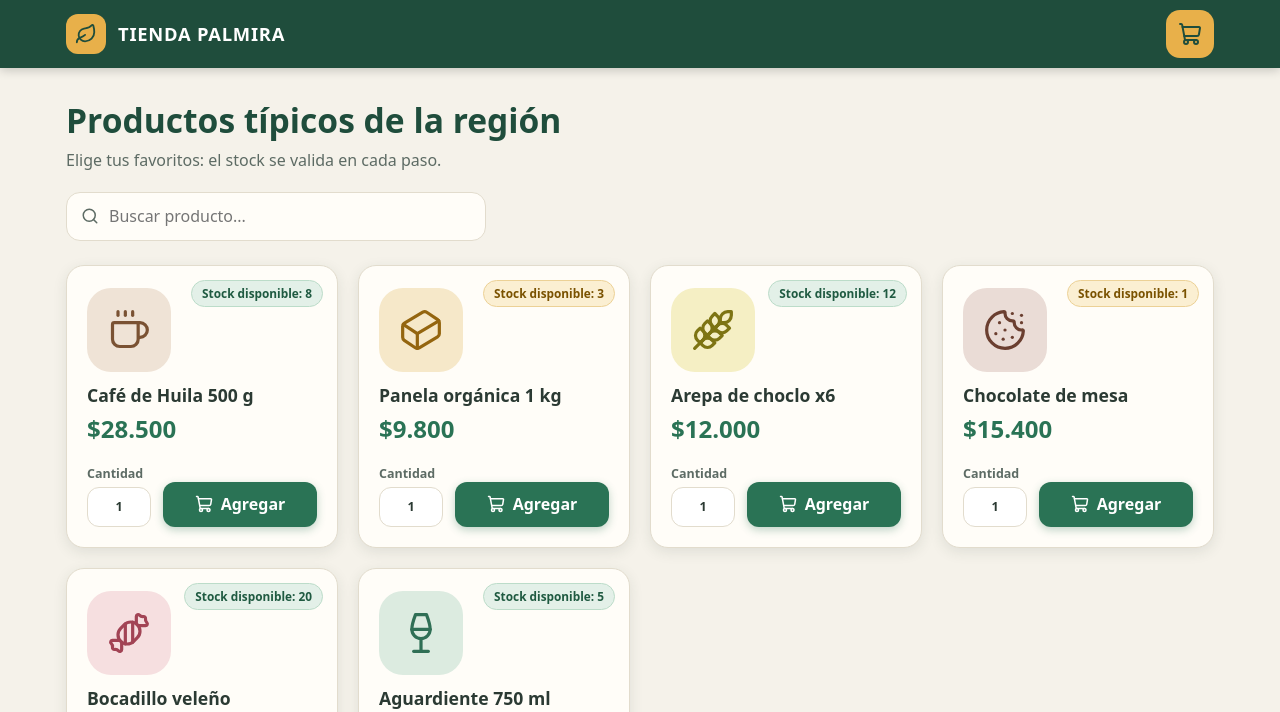
it: Reto carrito de compras - casos de prueba del instructor › 6. Panela (stock 3): 2 + 2 queda en 3 con toast
Replace the text in the field labelled "Cantidad" below "$9.800" with "2" at (411, 507), box 379,487 -> 443,527
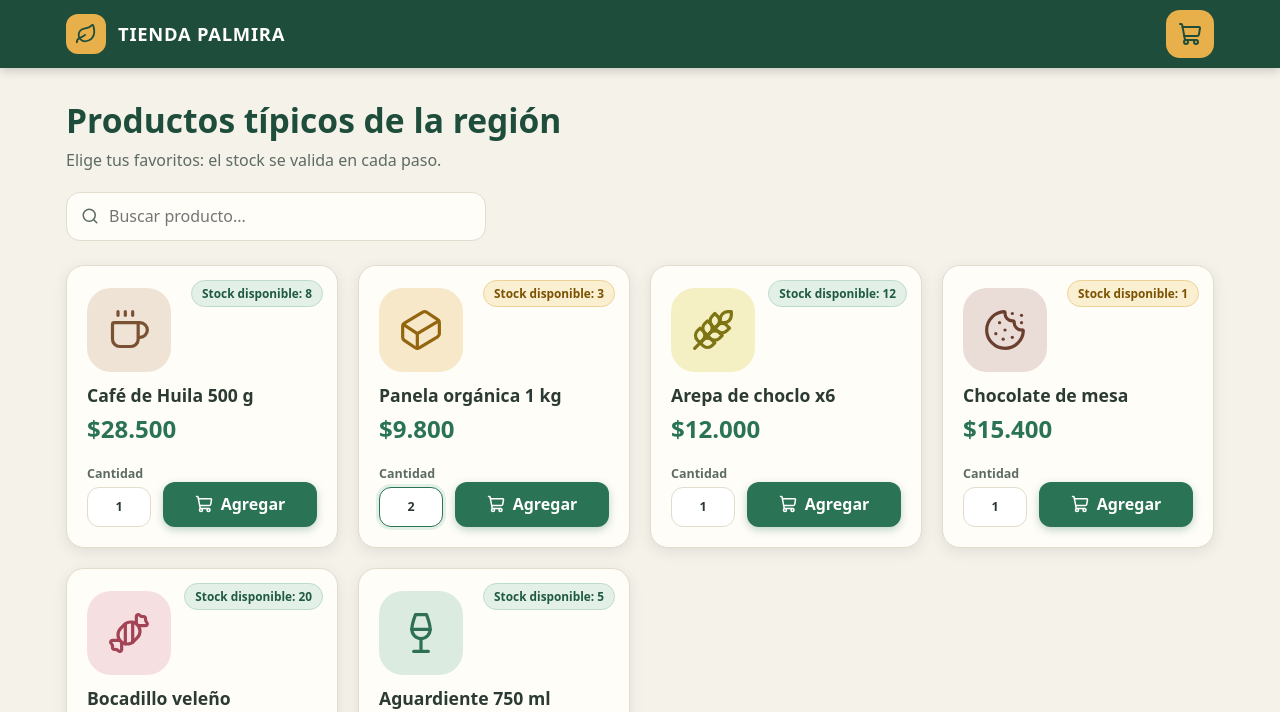
Click the button "Agregar" below "$9.800" at (532, 504), box 455,482 -> 609,527
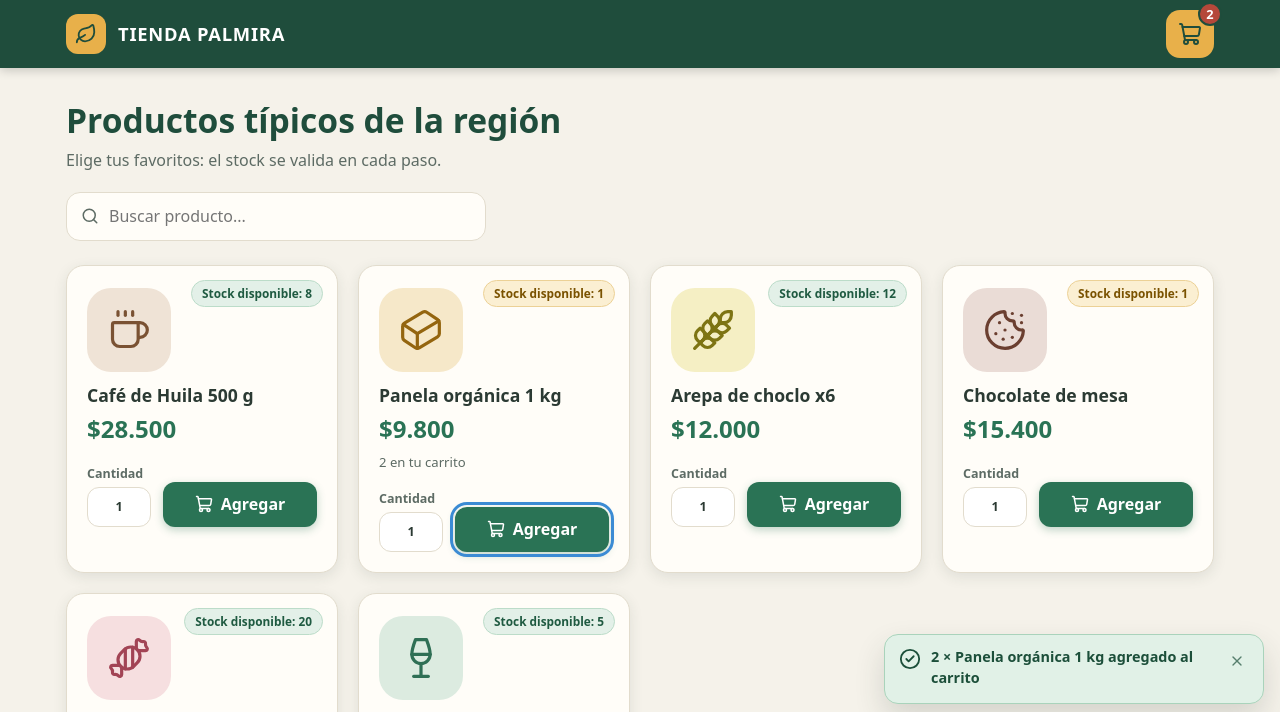
Replace the text in the field labelled "Cantidad" below "en tu carrito" with "2" at (411, 532), box 379,512 -> 443,552
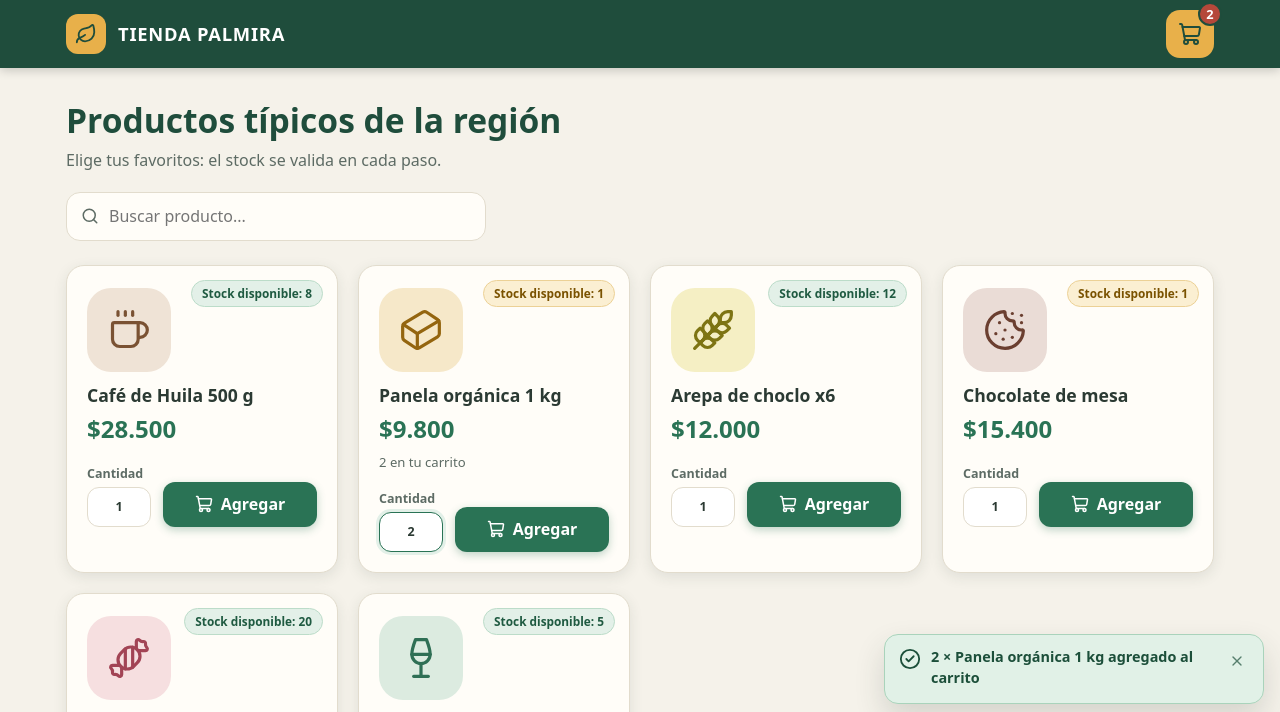
Click the button "Agregar" below "en tu carrito" at (532, 530), box 455,507 -> 609,552
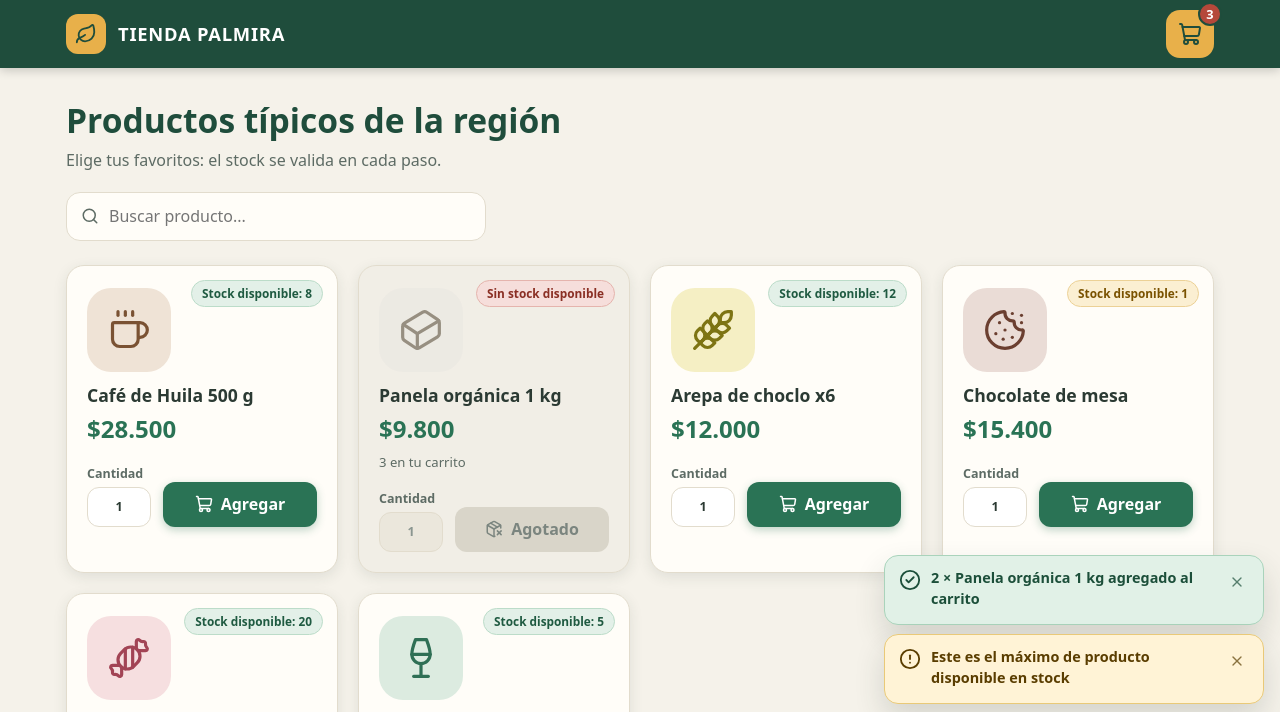
Check: the text "Este es el máximo de producto disponible en stock" is shown, box 931,647 -> 1150,687
Check: the text with test id "contador-carrito" reads "3", box 1206,5 -> 1214,23
Click the button named "abrir carrito" at (1190, 34), box 1166,10 -> 1214,58
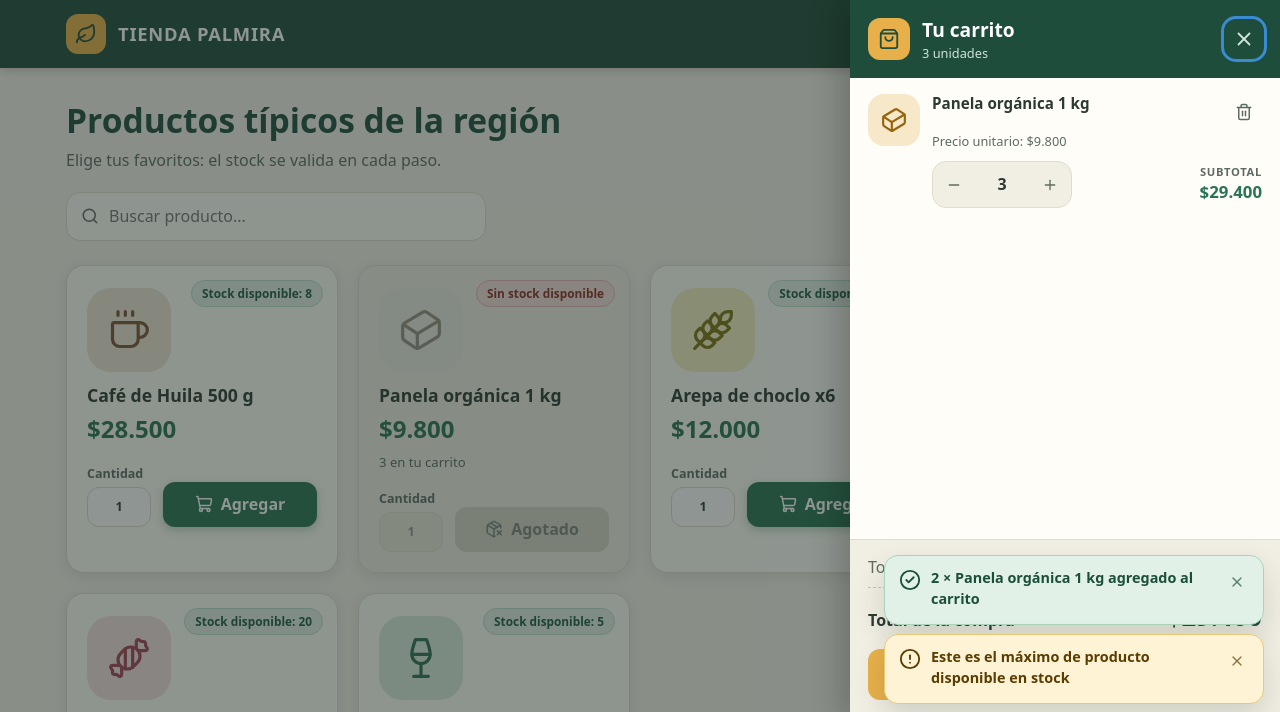
Check: the number of list items is 1, box 868,94 -> 1262,222
Check: the field named "Cantidad de Panela orgánica 1 kg en el carrito" holds "3", box 976,165 -> 1028,204
